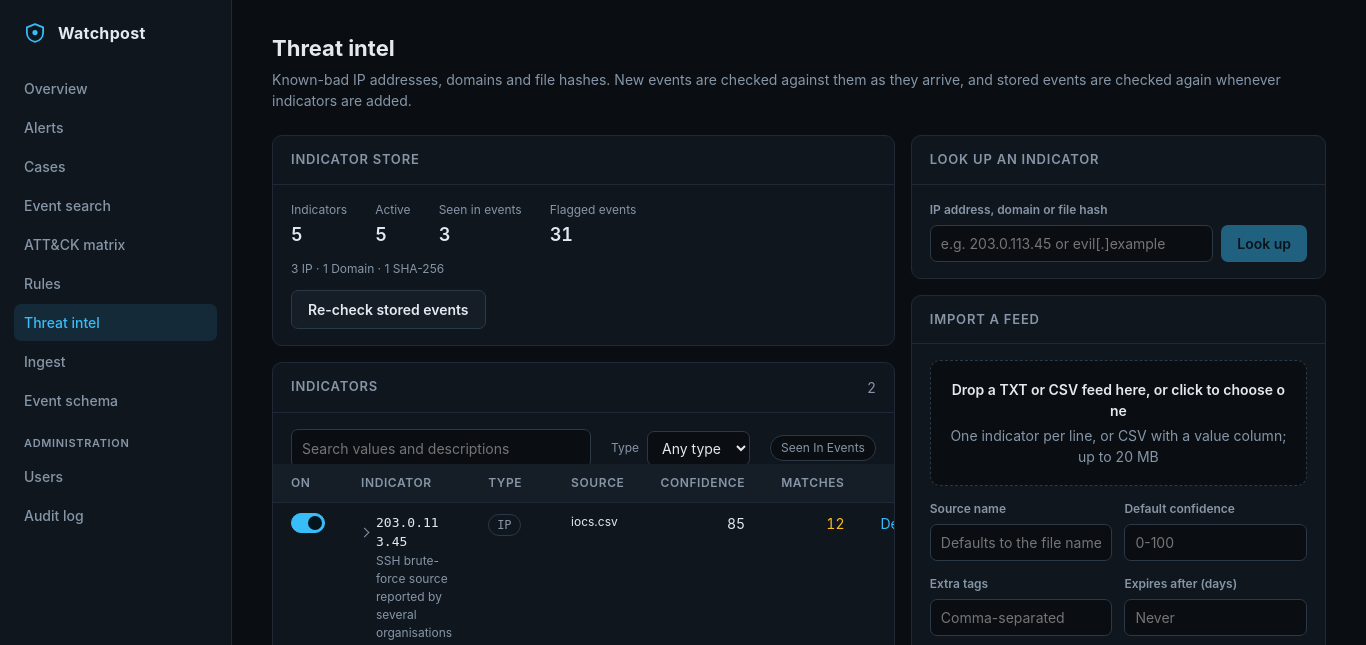
Test: IntelPage › queues a re-check of stored events
The image size is (1366, 645).
Click the button "Re-check stored events" at (388,309), box [291,290,486,328]
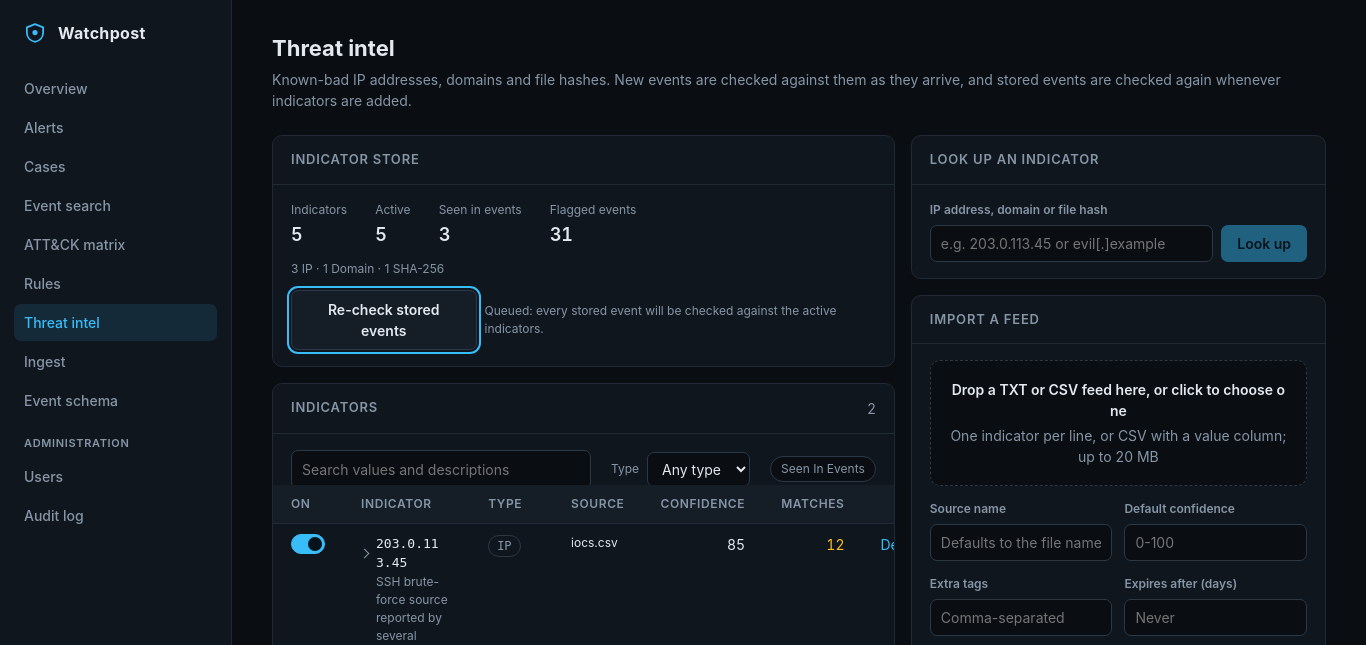
Expected: the text "Queued: every stored event will be checked against the active indicators." is shown, [484,302,876,338]
